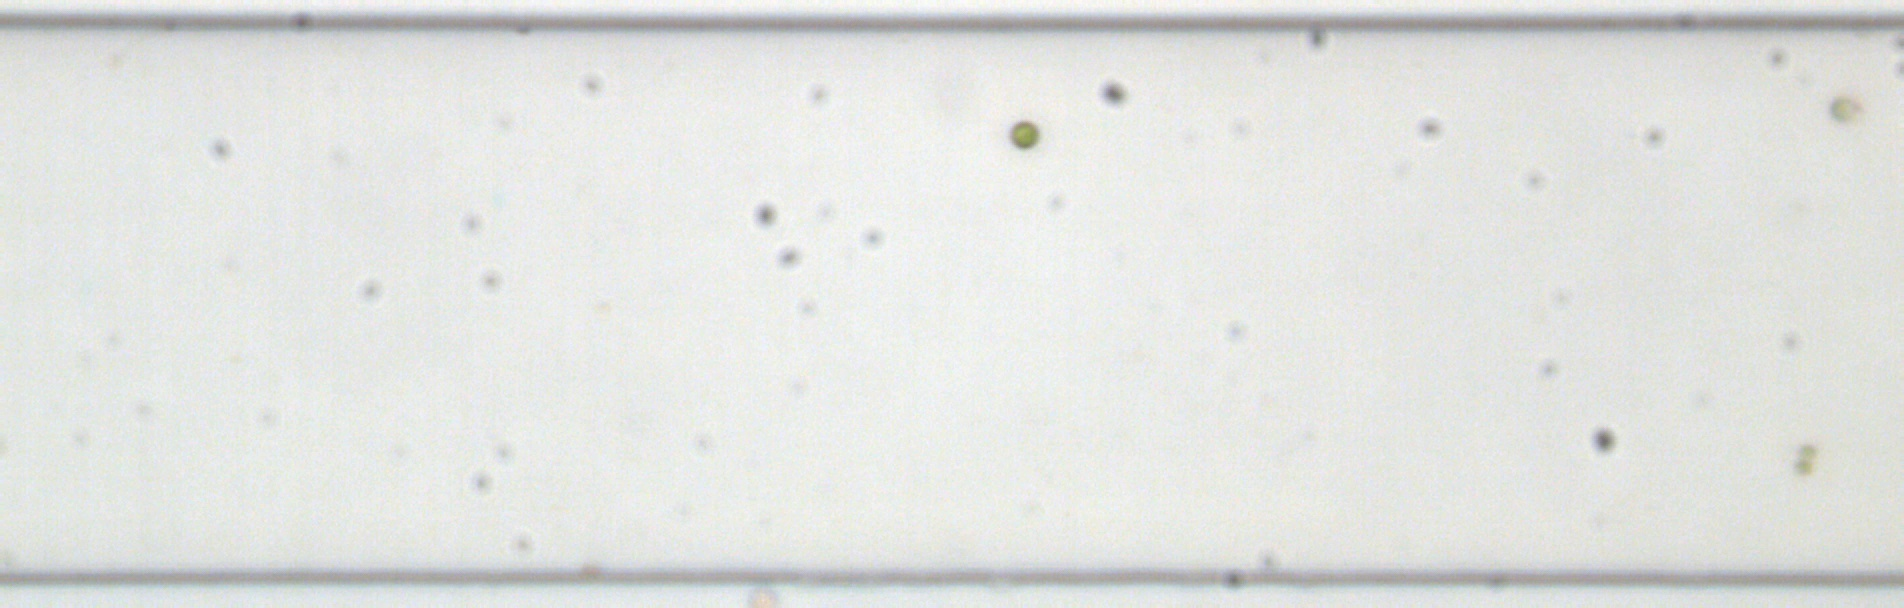Chlorella: (1007, 118, 1041, 149), (1796, 442, 1817, 461), (1792, 458, 1812, 476)
Dunaliella salina: (1826, 93, 1863, 123)
